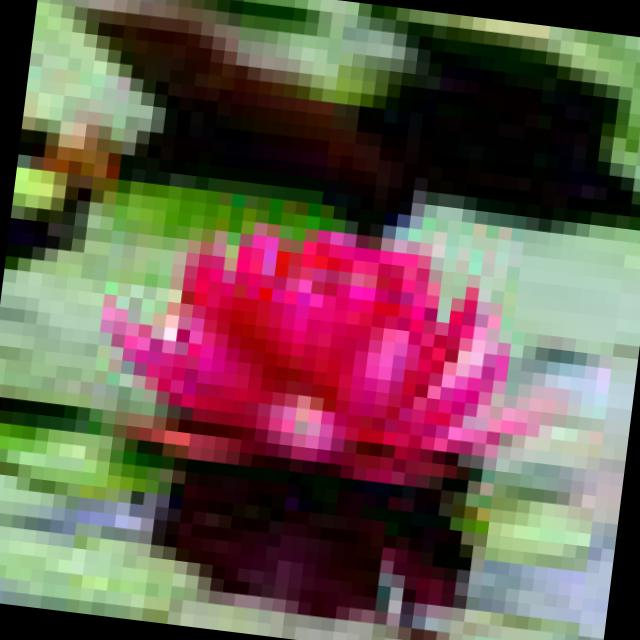lotus: (54, 182, 595, 540)
